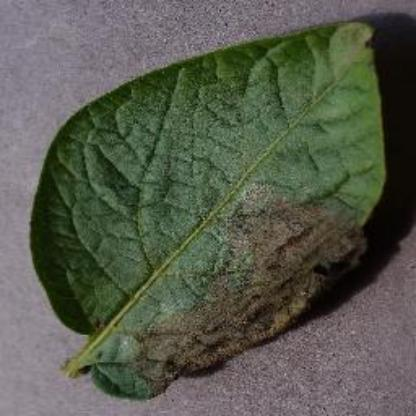Late-Blight: (26, 32, 414, 380)
